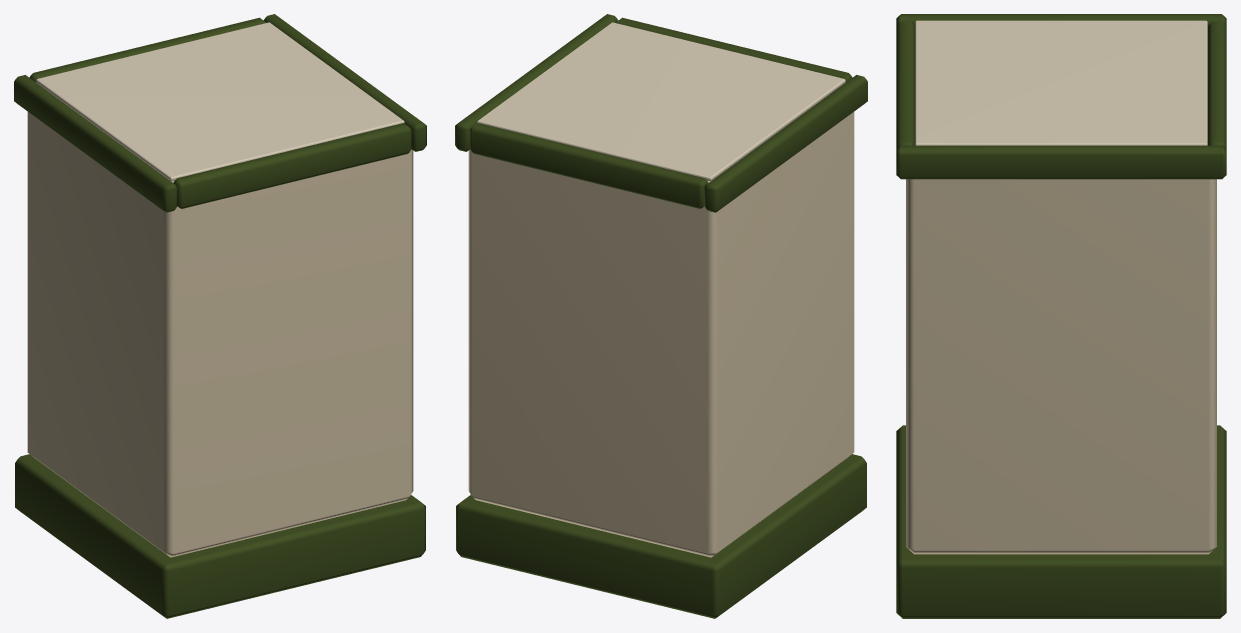
File: exhibit_plinth.glb
3 views of the same model, side by side, from view 1: azimuth 30°, elevation 25°; view 2: azimuth 150°, elevation 25°; view 3: azimuth 270°, elevation 25° (orthographic). The views are drawn at different scales.
Parts seen in each view (by area): view 1: Body; view 2: Body; view 3: Body.
Boxes of the visible parts, <box> form: Body: <box>14,14,426,618</box>; Body: <box>455,14,867,618</box>; Body: <box>896,14,1226,618</box>.
Size of the model in its own units: 0.7 by 1.1 by 0.7.
